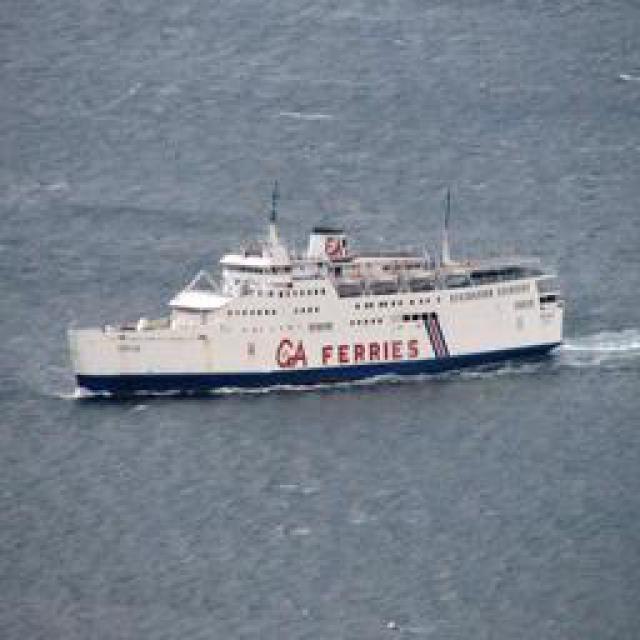Ship: (63, 187, 571, 397)
